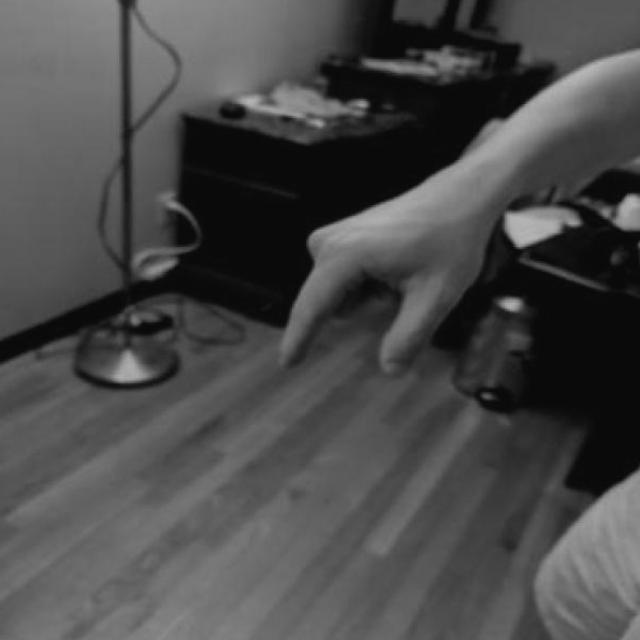Q: (270, 176, 505, 437)
